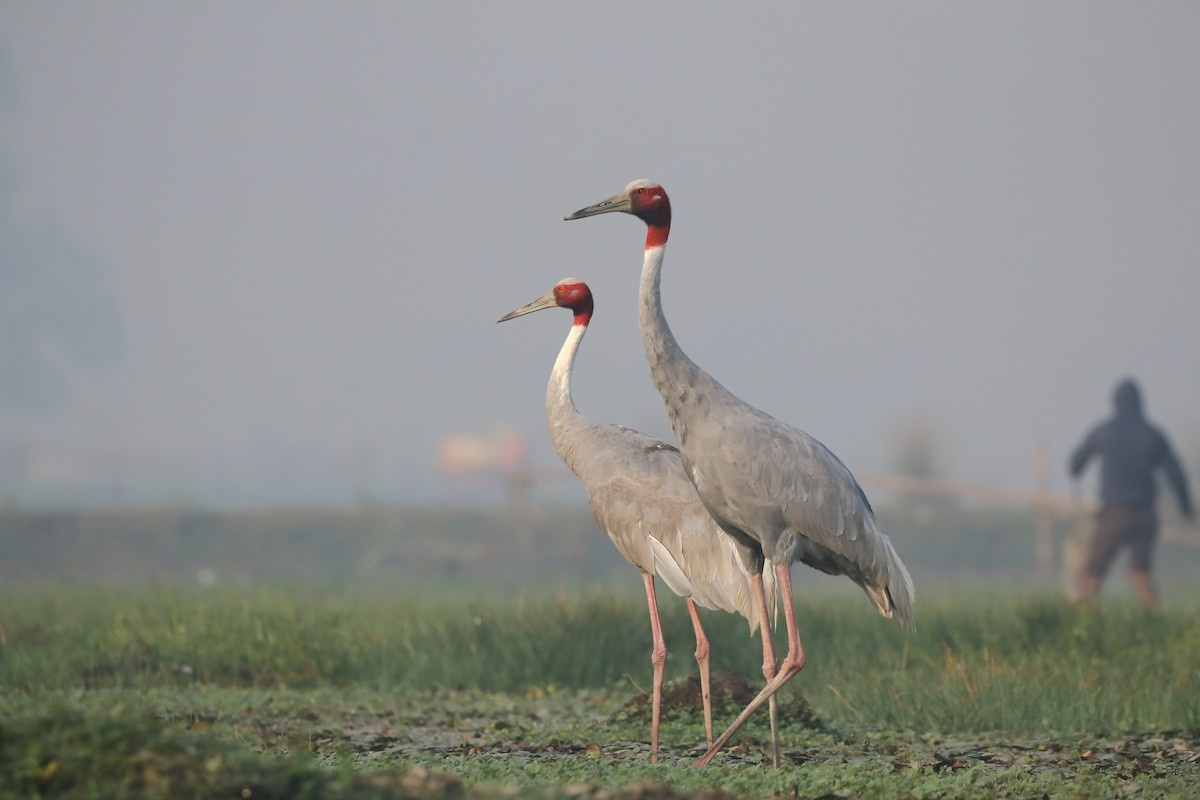crane: (559, 163, 918, 741), (492, 264, 723, 747)
